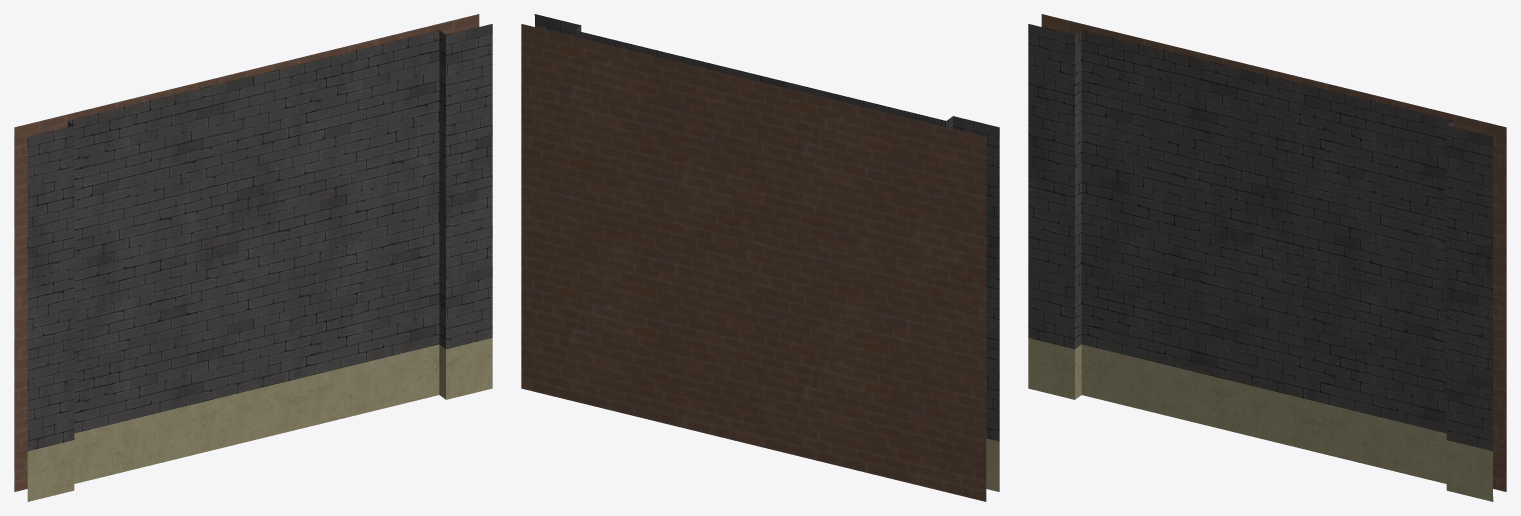
Rendered from WornBrick_Bottom.gltf.
3 renders of one model, left to right at view 1: azimuth 30°, elevation 25°; view 2: azimuth 150°, elevation 25°; view 3: azimuth 330°, elevation 25°, orthographic.
Parts seen in each view (by area): view 1: WornBrick_Bottom; view 2: WornBrick_Bottom; view 3: WornBrick_Bottom.
Part boxes in pixels (x1=…): WornBrick_Bottom: x1=14, y1=14, x2=492, y2=501; WornBrick_Bottom: x1=521, y1=14, x2=999, y2=501; WornBrick_Bottom: x1=1028, y1=14, x2=1506, y2=501.
Bounding box in the file's own units: 4 × 3 × 0.2.
Materials: 3 (3 with a texture image).
